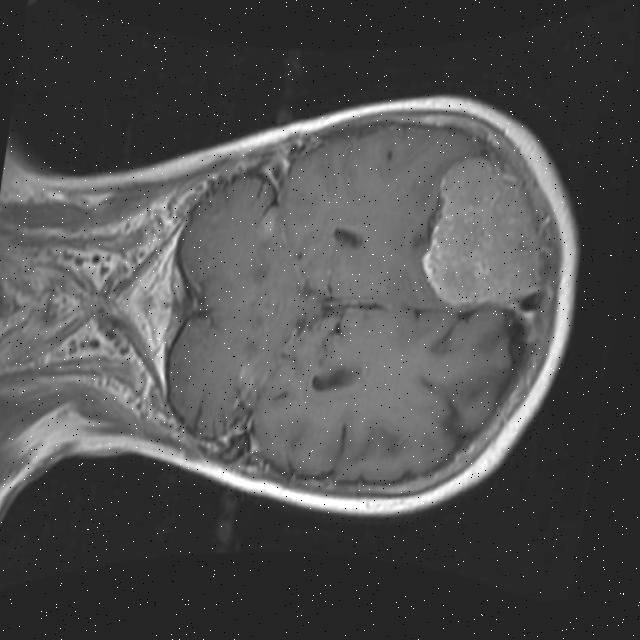Meningioma: (412, 149, 560, 317)
